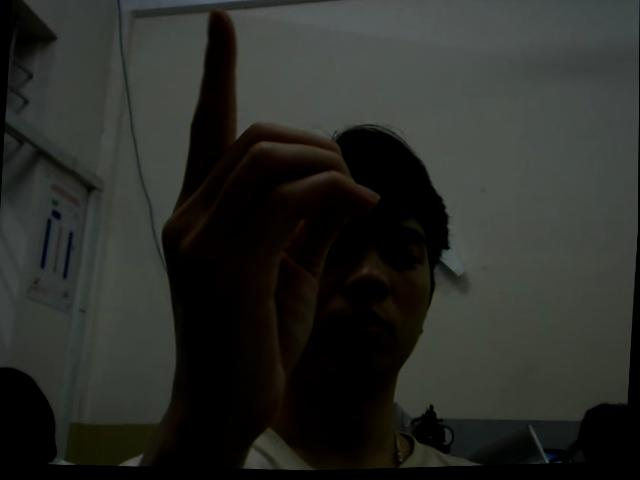D: (148, 3, 389, 439)
